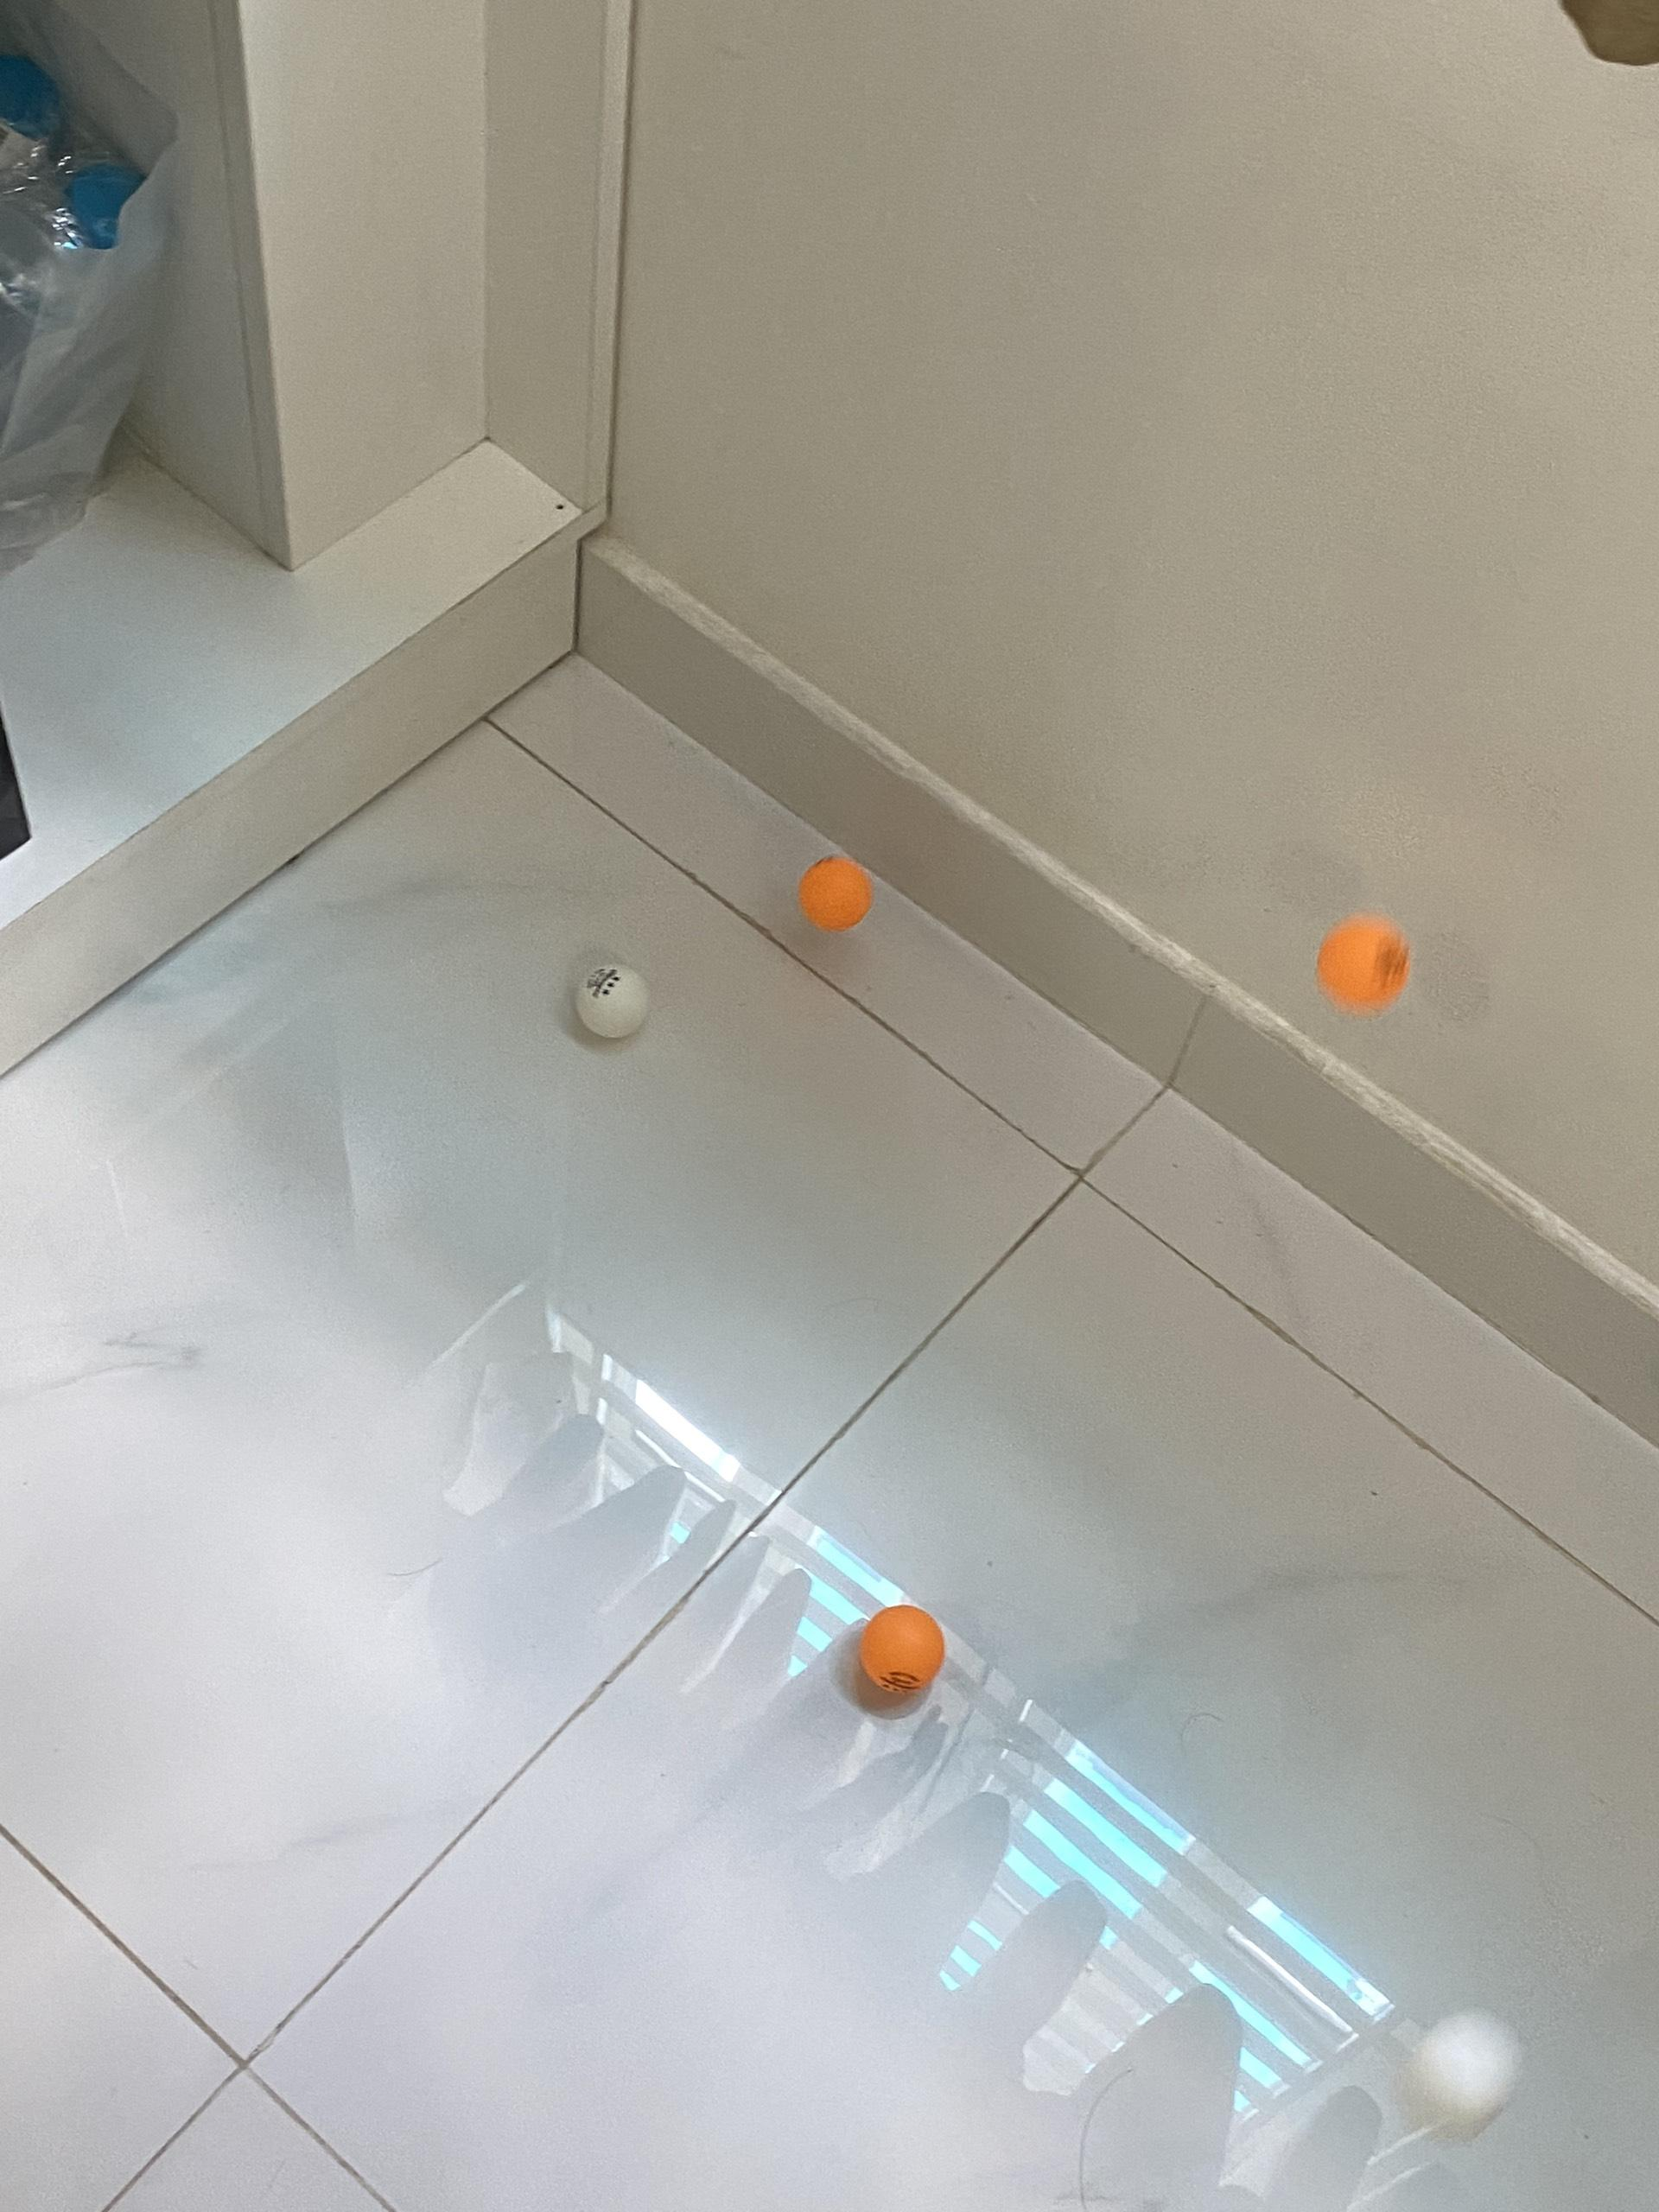oball: (1316, 907, 1415, 1010), (861, 1601, 948, 1700), (798, 852, 875, 930)
